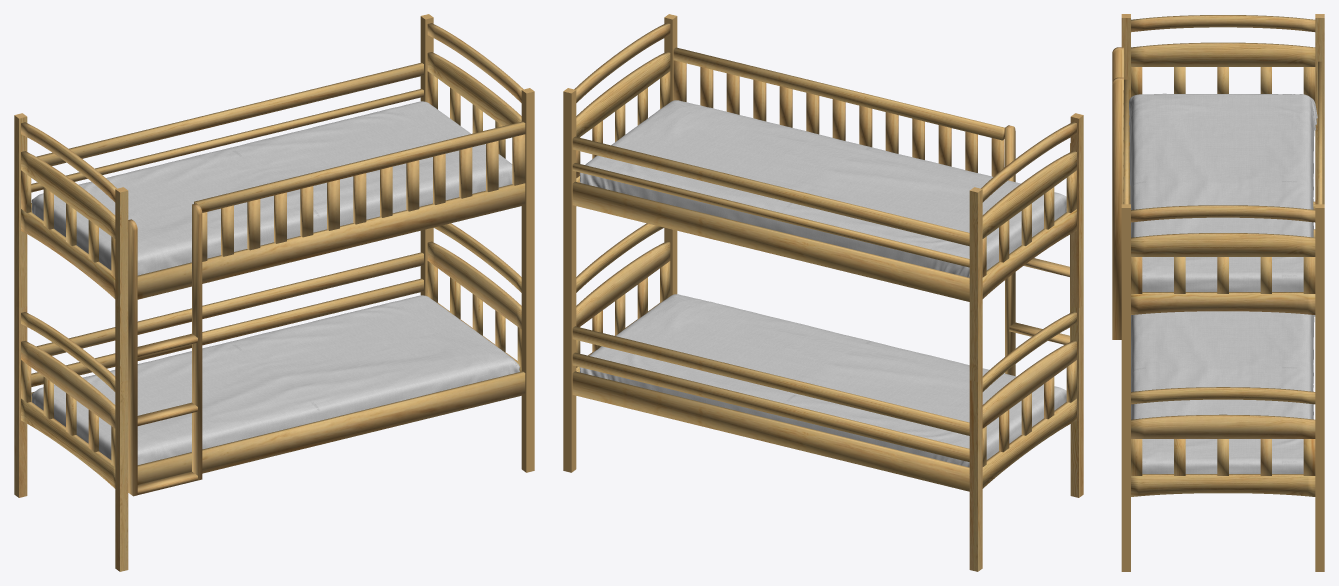
The model's file is bunkbed.glb.
3 renders of one model, left to right at view 1: azimuth 30°, elevation 25°; view 2: azimuth 150°, elevation 25°; view 3: azimuth 270°, elevation 25°, orthographic. The views are drawn at different scales.
Visible parts, largest first — view 1: Bunk bed, Mattress.001, Mattress.002; view 2: Bunk bed, Mattress.002, Mattress.001; view 3: Bunk bed, Mattress.002, Mattress.001.
Boxes of the visible parts, box(x1,y1,x2,y2) form: Bunk bed: box(14, 14, 534, 571); Mattress.001: box(31, 295, 519, 464); Mattress.002: box(31, 101, 512, 275); Bunk bed: box(563, 14, 1083, 571); Mattress.002: box(579, 100, 1066, 277); Mattress.001: box(579, 294, 1066, 467); Bunk bed: box(1112, 14, 1324, 571); Mattress.002: box(1129, 93, 1317, 291); Mattress.001: box(1131, 311, 1315, 473).
Size of the model in its own units: 1.99 by 1.74 by 0.9204.
2 materials, 2 textured.
